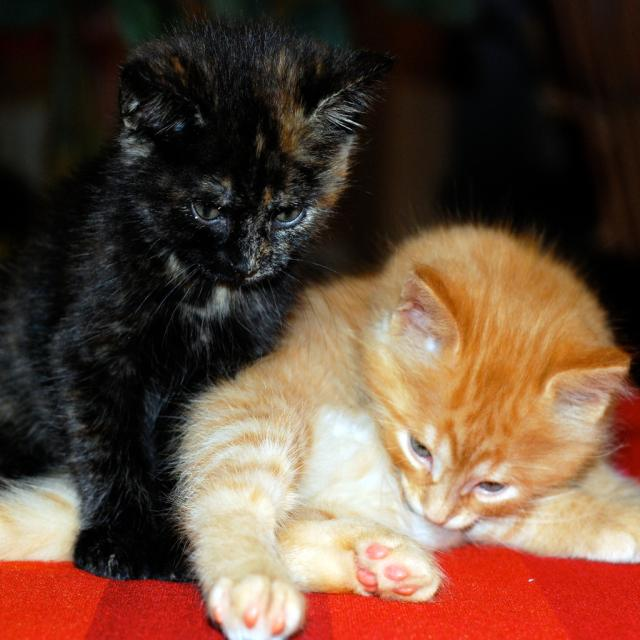Cat: (0, 219, 639, 639), (0, 0, 387, 583)
